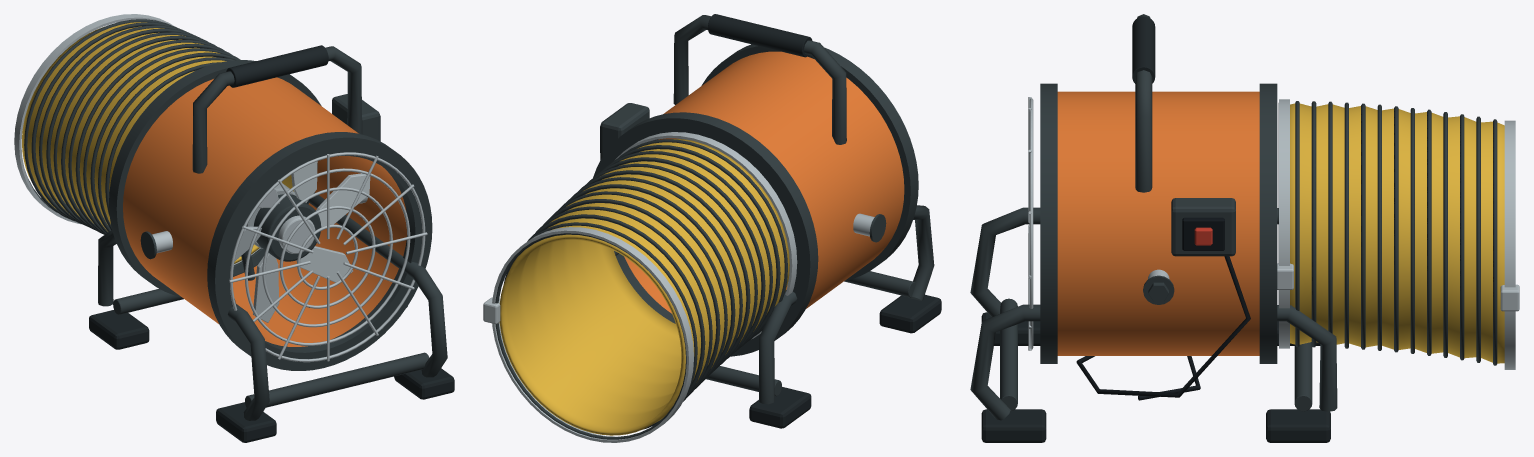
The model's file is city-confined-space-blower.glb.
3 renders of one model, left to right at view 1: azimuth 30°, elevation 25°; view 2: azimuth 150°, elevation 25°; view 3: azimuth 270°, elevation 25°, orthographic. The views are drawn at different scales.
Parts seen in each view (by area): view 1: Assembly | Graphite painted structure, Assembly | Warm industrial orange enamel, Assembly | Brushed galvanized hardware, Assembly | Flexible yellow duct fabric, Assembly | Molded charcoal rubber; view 2: Assembly | Flexible yellow duct fabric, Assembly | Graphite painted structure, Assembly | Warm industrial orange enamel, Assembly | Brushed galvanized hardware, Assembly | Molded charcoal rubber; view 3: Assembly | Warm industrial orange enamel, Assembly | Graphite painted structure, Assembly | Flexible yellow duct fabric, Assembly | Brushed galvanized hardware, Assembly | Molded charcoal rubber, Assembly | Matte black recess.
Part boxes in pixels (<box>): Assembly | Graphite painted structure: <box>24,19,447,420</box>; Assembly | Warm industrial orange enamel: <box>123,77,406,346</box>; Assembly | Brushed galvanized hardware: <box>14,14,427,362</box>; Assembly | Flexible yellow duct fabric: <box>22,22,293,263</box>; Assembly | Molded charcoal rubber: <box>89,45,454,442</box>; Assembly | Flexible yellow duct fabric: <box>499,139,789,435</box>; Assembly | Graphite painted structure: <box>495,15,934,439</box>; Assembly | Warm industrial orange enamel: <box>624,51,904,313</box>; Assembly | Brushed galvanized hardware: <box>483,132,874,442</box>; Assembly | Molded charcoal rubber: <box>708,14,941,428</box>; Assembly | Warm industrial orange enamel: <box>1057,91,1259,355</box>; Assembly | Graphite painted structure: <box>970,14,1497,420</box>; Assembly | Flexible yellow duct fabric: <box>1290,103,1504,363</box>; Assembly | Brushed galvanized hardware: <box>1028,97,1519,369</box>; Assembly | Molded charcoal rubber: <box>981,16,1330,442</box>; Assembly | Matte black recess: <box>1076,217,1250,400</box>.
Bounding box in the file's own units: 0.648 × 0.763 × 1.1.
